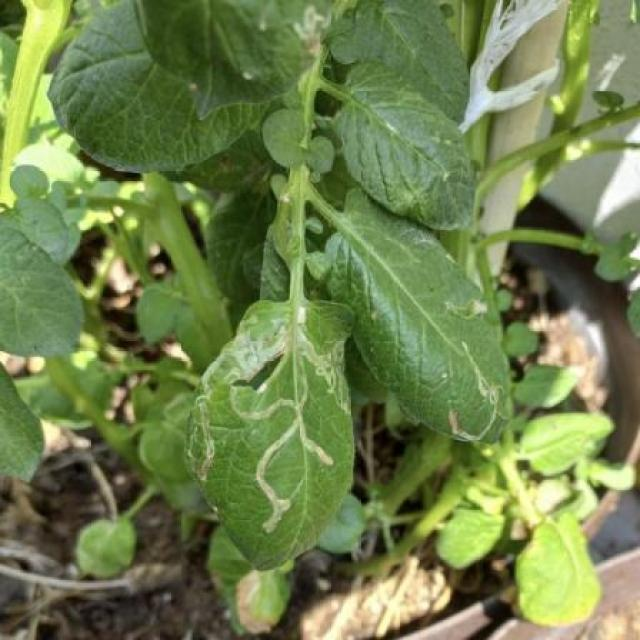Leaf Miner: (321, 188, 513, 453), (191, 295, 358, 569)
